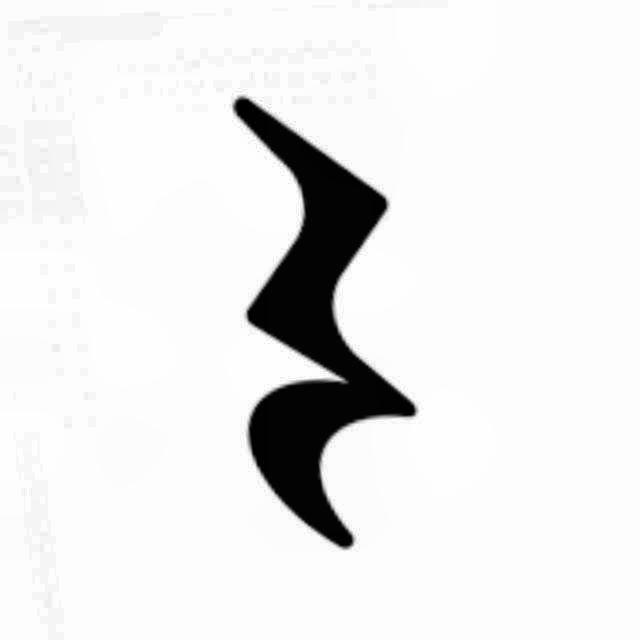Quarter-rest: (196, 80, 428, 568)
